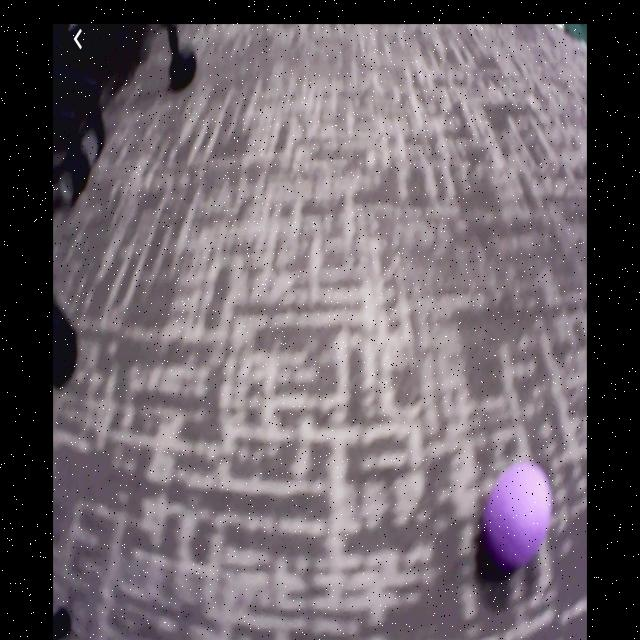ball: (487, 467, 552, 564)
